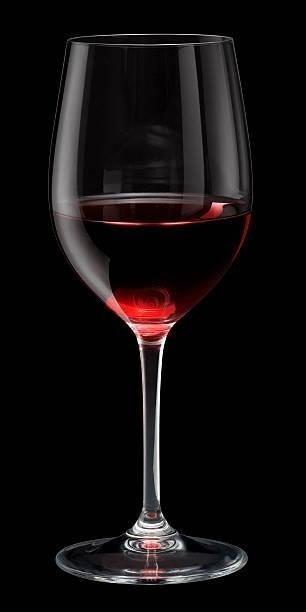glass-wine: (46, 31, 255, 588)
